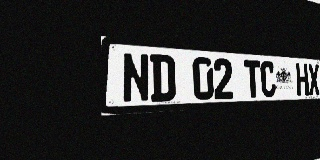0: (192, 57, 214, 100)
2: (213, 58, 233, 99)
C: (260, 61, 276, 97)
D: (150, 54, 176, 102)
H: (296, 63, 309, 96)
N: (122, 52, 150, 103)
T: (244, 60, 261, 98)
X: (308, 64, 320, 95)
